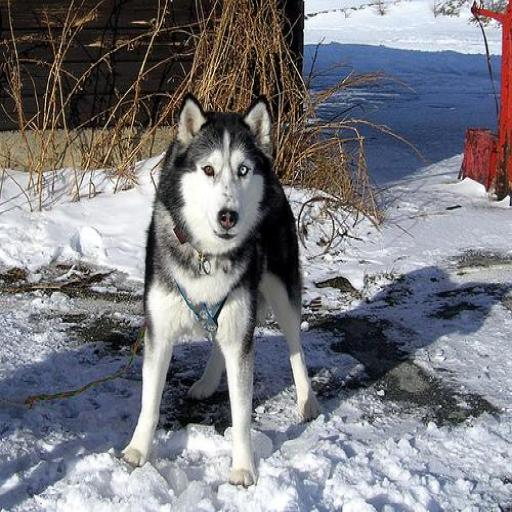dog_face: (177, 97, 272, 239)
